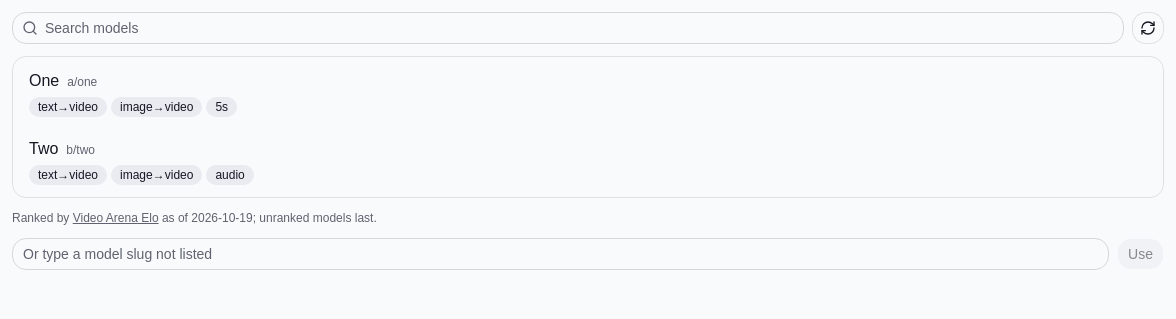
Scenario: ModelPicker with inspectModel › reports an inspection failure without picking
What coordinates should you click on to do the following:
click the button "One a/one text→video image→video 5s"
I would click on:
 (44, 80)
Its box is 17,61 -> 1159,125.
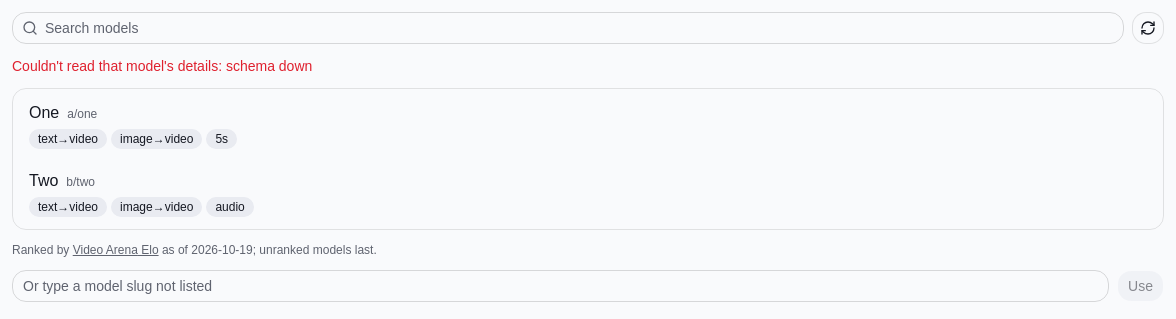
Result: the message shows "schema down" at 226,58 -> 312,74
